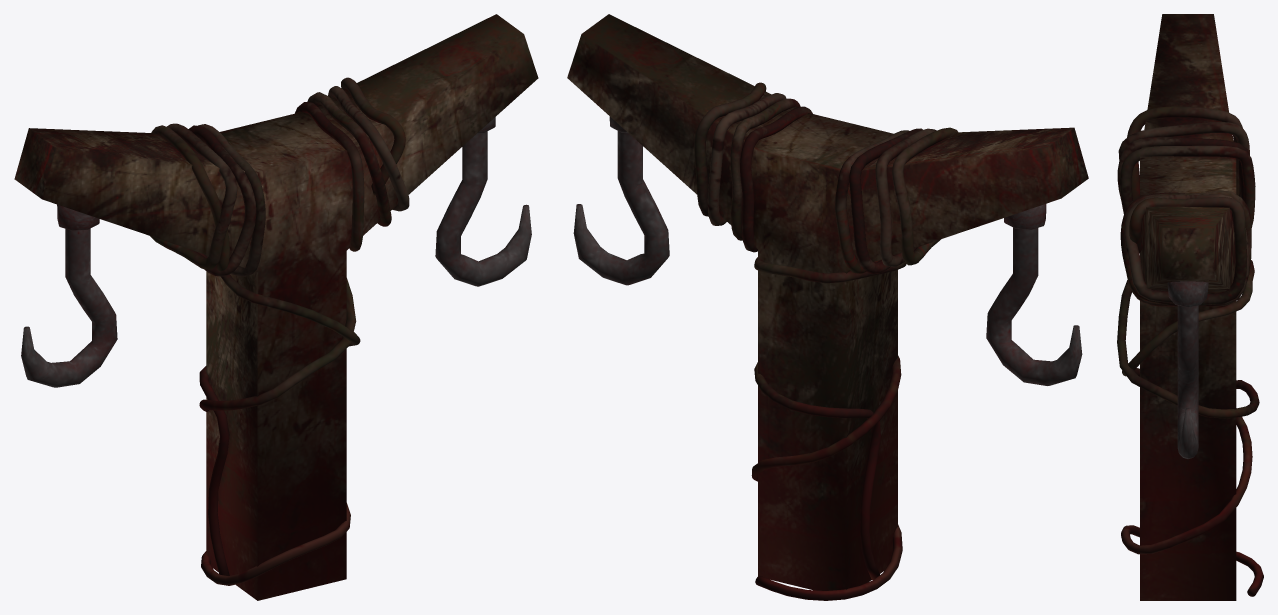
The model's file is sacrificial_hook.glb.
The picture shows the model from 3 angles, left to right: view 1: azimuth 30°, elevation 25°; view 2: azimuth 150°, elevation 25°; view 3: azimuth 270°, elevation 25°; orthographic projection. The views are drawn at different scales.
Visible parts, largest first — view 1: hook; view 2: hook; view 3: hook.
Part boxes in pixels (x1,y1,x2,y2): hook: [14, 14, 538, 600]; hook: [567, 14, 1088, 600]; hook: [1117, 14, 1263, 600].
Size of the model in its own units: 5.59 by 5.14 by 1.49.
1 material, 1 textured.
